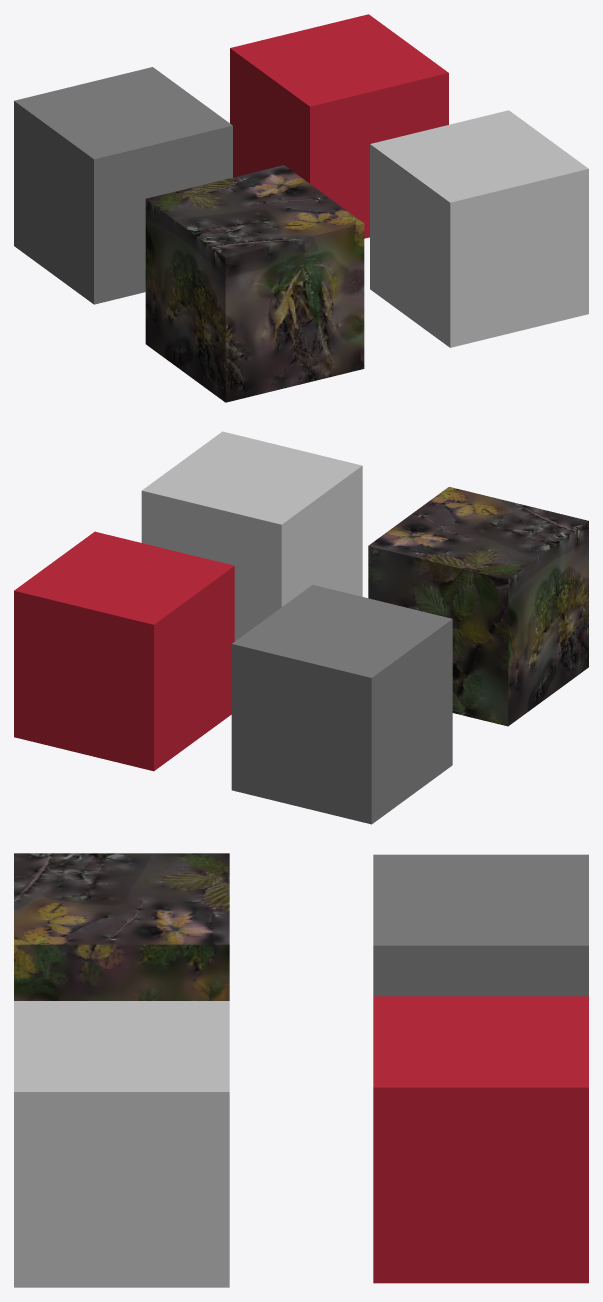
Rendered from cubes.obj.
3 views of the same model, one above another, from view 1: azimuth 30°, elevation 25°; view 2: azimuth 150°, elevation 25°; view 3: azimuth 270°, elevation 25° (orthographic). The views are drawn at different scales.
Parts seen in each view (by area): view 1: Cube3, Cube4, Cube1, Cube2; view 2: Cube1, Cube2, Cube3, Cube4; view 3: Cube2, Cube4, Cube3, Cube1.
Part boxes in pixels (<box>): Cube3: <box>145,165,364,402</box>; Cube4: <box>370,110,588,347</box>; Cube1: <box>14,67,232,304</box>; Cube2: <box>230,14,448,238</box>; Cube1: <box>231,585,452,824</box>; Cube2: <box>14,531,234,771</box>; Cube3: <box>368,487,588,726</box>; Cube4: <box>141,431,362,641</box>; Cube2: <box>373,996,588,1283</box>; Cube4: <box>14,1001,229,1287</box>; Cube3: <box>14,853,229,1000</box>; Cube1: <box>373,854,588,996</box>.
Size of the model in its own units: 30.09 by 11.49 by 30.62.
